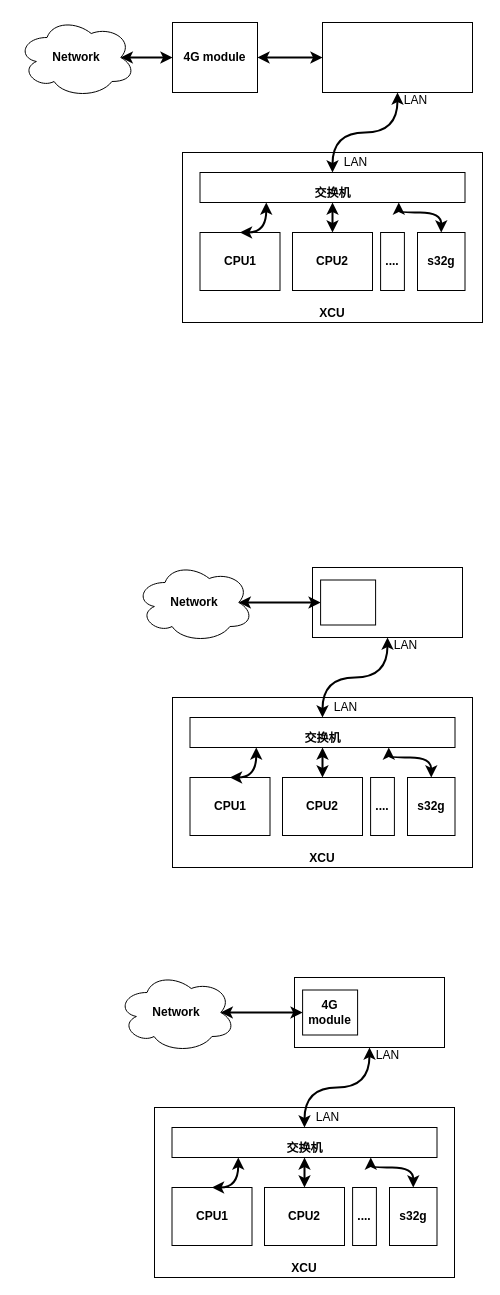
This 500x1295 diagram has some shape labels left out. Here are the shapes that lost their labels. From the top down, the box of each, then its label:
(322, 22, 472, 92): TCU
(320, 579, 376, 625): 5G module
(312, 566, 462, 638): 云聚路由器
(294, 976, 444, 1048): 华为路由器
